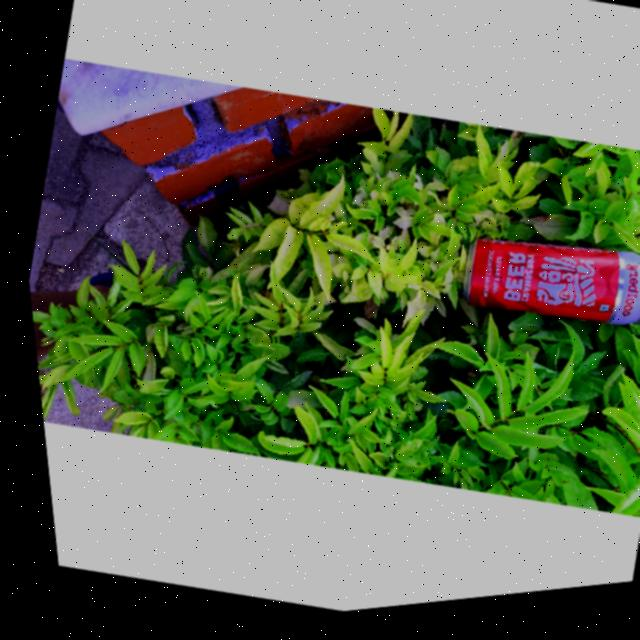Coolberg: (447, 224, 640, 351)
